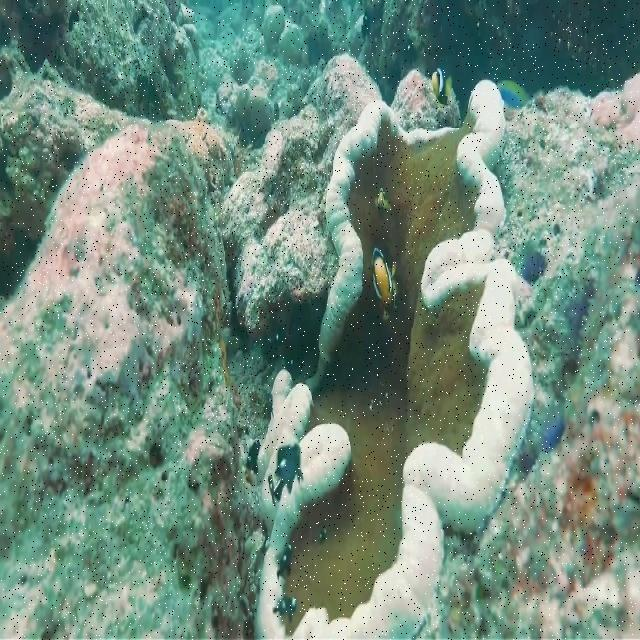fish: (268, 442, 303, 506), (371, 243, 399, 320), (432, 69, 454, 99)
reefs: (254, 80, 536, 638)
sea-floor: (1, 54, 383, 638), (416, 71, 639, 638)
